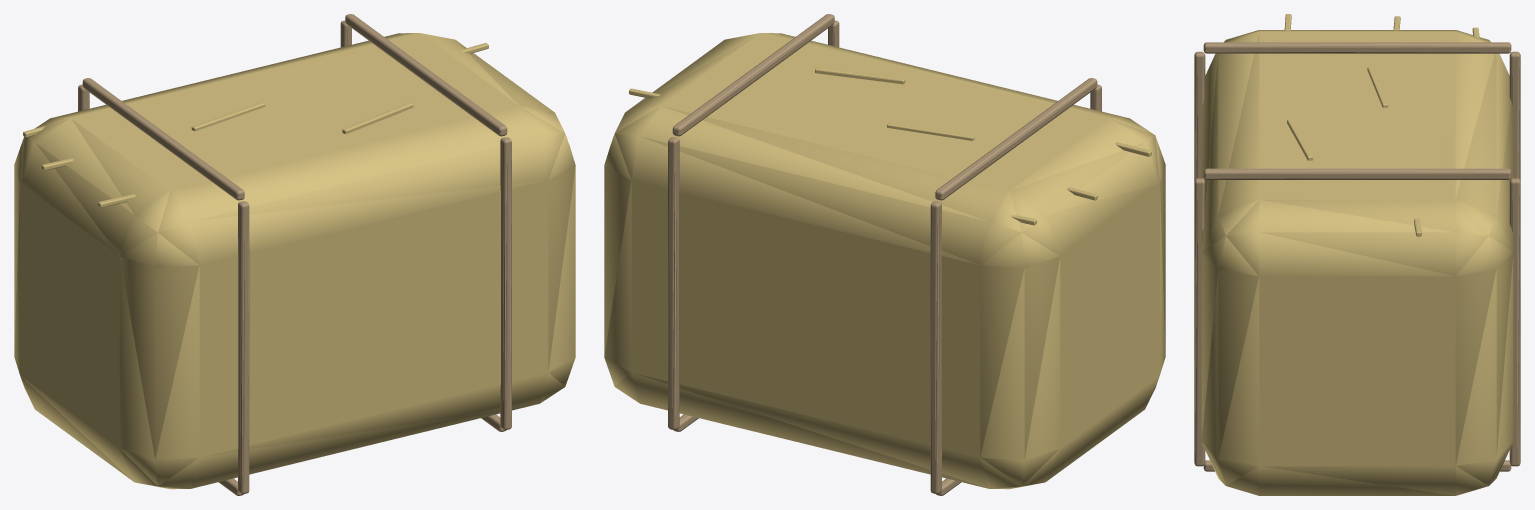
The model's file is SM_HayBale.fbx.
3 views of the same model, side by side, from view 1: azimuth 30°, elevation 25°; view 2: azimuth 150°, elevation 25°; view 3: azimuth 270°, elevation 25° (orthographic).
Parts seen in each view (by area): view 1: SM_HayBale; view 2: SM_HayBale; view 3: SM_HayBale.
Part boxes in pixels (left/top/right/bottom): SM_HayBale: left=14, top=14, right=575, bottom=495; SM_HayBale: left=604, top=14, right=1165, bottom=495; SM_HayBale: left=1194, top=14, right=1520, bottom=495.
Size of the model in its own units: 122 by 76.3 by 78.45.
